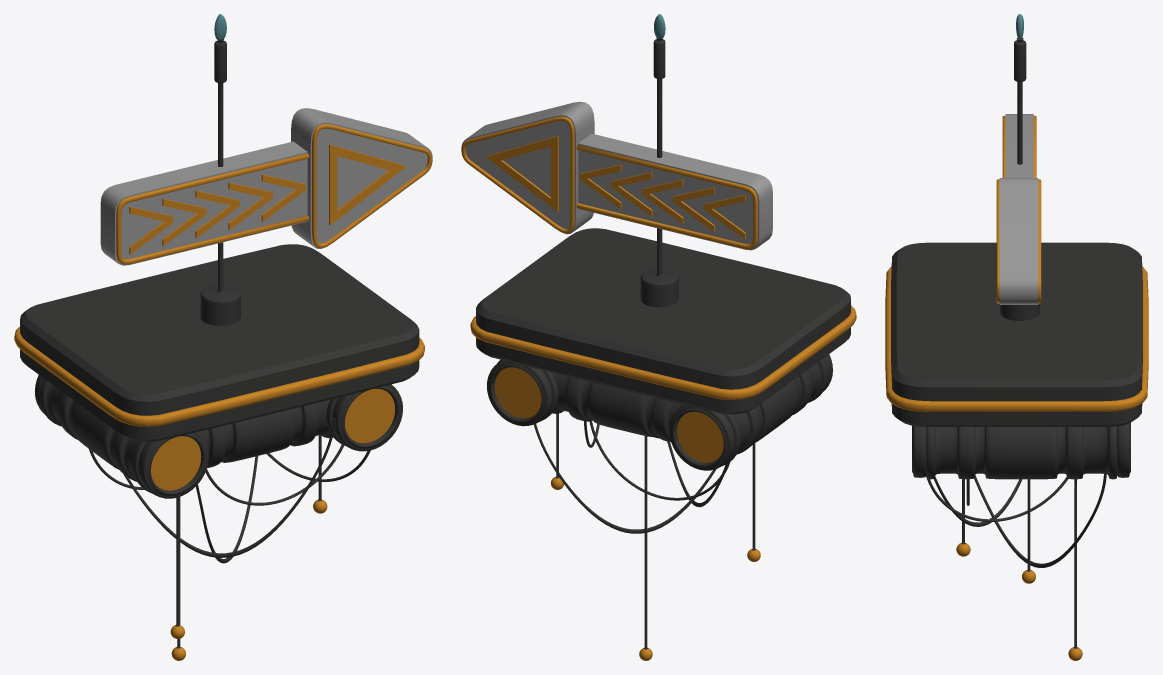
File: Arrow Sign_New.fbx
3 views of the same model, side by side, from view 1: azimuth 30°, elevation 25°; view 2: azimuth 150°, elevation 25°; view 3: azimuth 270°, elevation 25° (orthographic). The views are drawn at different scales.
Visible parts, largest first — view 1: Box319, Arrow Sign, Box320, Box321, Cylinder254, Cylinder251, Cylinder252, Cylinder253, TextPlus085, Cylinder255, Cylinder261, TextPlus080 (+5 smaller); view 2: Box319, Arrow Sign, Box320, Box321, Cylinder254, Cylinder251, Cylinder259, Cylinder260, Cylinder255, TextPlus079, Cylinder258, Cylinder263 (+6 smaller); view 3: Box319, Cylinder255, Arrow Sign, Box321, Box320, Cylinder251, Cylinder258, Cylinder262, Cylinder261, Cylinder263.
Part boxes in pixels (<box>): Box319: <box>20,244,419,442</box>; Arrow Sign: <box>14,124,432,490</box>; Box320: <box>100,141,307,265</box>; Box321: <box>291,108,432,248</box>; Cylinder254: <box>35,375,208,498</box>; Cylinder251: <box>200,39,240,325</box>; Cylinder252: <box>256,400,333,456</box>; Cylinder253: <box>198,416,268,467</box>; TextPlus085: <box>329,144,406,225</box>; Cylinder255: <box>326,384,402,451</box>; Cylinder261: <box>123,418,335,557</box>; TextPlus080: <box>261,174,305,221</box>; Box319: <box>476,228,850,414</box>; Arrow Sign: <box>461,116,856,462</box>; Box320: <box>578,133,772,250</box>; Box321: <box>461,101,594,234</box>; Cylinder254: <box>669,354,832,470</box>; Cylinder251: <box>640,37,678,307</box>; Cylinder259: <box>552,372,621,430</box>; Cylinder260: <box>613,389,681,442</box>; Cylinder255: <box>487,359,558,426</box>; TextPlus079: <box>486,136,558,211</box>; Cylinder258: <box>534,424,716,533</box>; Cylinder263: <box>644,436,647,647</box>; Box319: <box>891,242,1142,426</box>; Cylinder255: <box>912,422,1130,479</box>; Arrow Sign: <box>885,115,1148,411</box>; Box321: <box>999,178,1038,304</box>; Box320: <box>1005,114,1033,177</box>; Cylinder251: <box>1000,38,1039,320</box>; Cylinder258: <box>974,474,1106,567</box>; Cylinder262: <box>926,476,1068,521</box>; Cylinder261: <box>934,476,1022,526</box>; Cylinder263: <box>1074,487,1076,647</box>.
Bounding box in the file's own units: 38.39 × 68.08 × 24.89.
